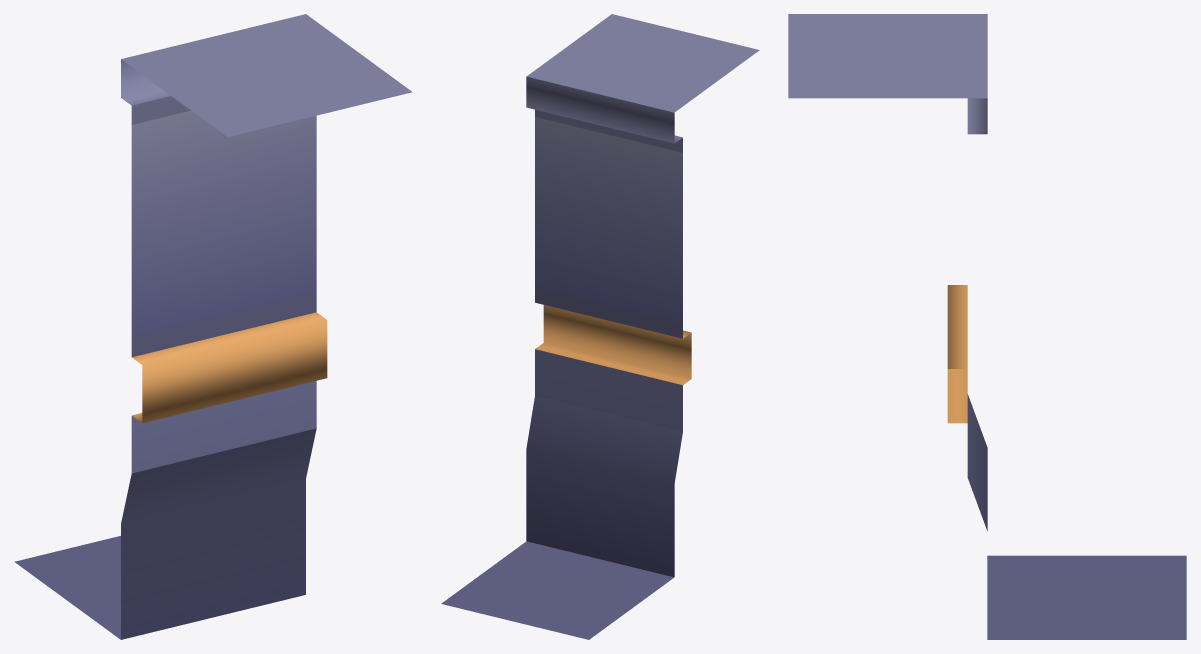
File: structure-wall.glb
3 renders of one model, left to right at view 1: azimuth 30°, elevation 25°; view 2: azimuth 150°, elevation 25°; view 3: azimuth 270°, elevation 25°, orthographic. The views are drawn at different scales.
Visible parts, largest first — view 1: structure-wall; view 2: structure-wall; view 3: structure-wall.
Boxes of the visible parts, x1,y1,x2,y2 form: structure-wall: (14,14,412,639); structure-wall: (441,14,759,639); structure-wall: (788,14,1186,639).
Bounding box in the file's own units: 1 × 3 × 2.
1 material, 1 textured.
